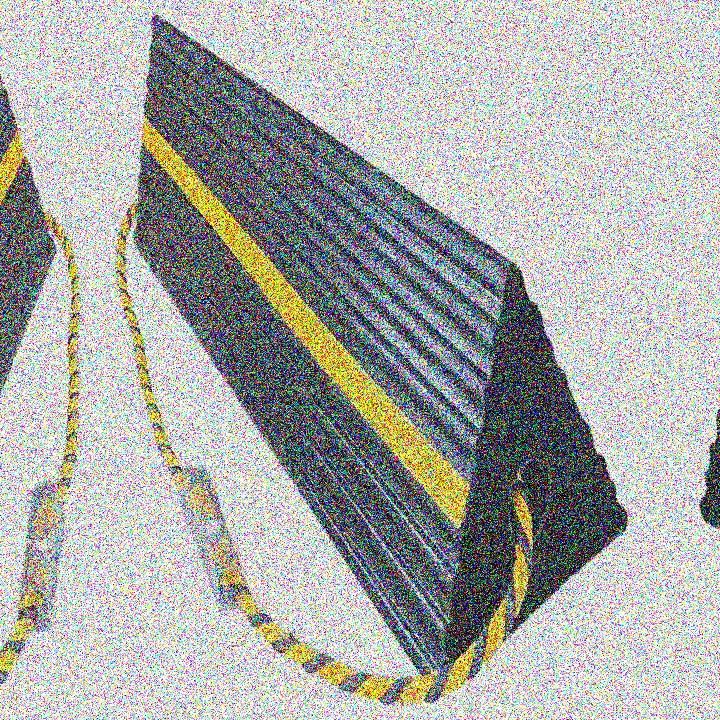chock: (105, 0, 648, 720)
